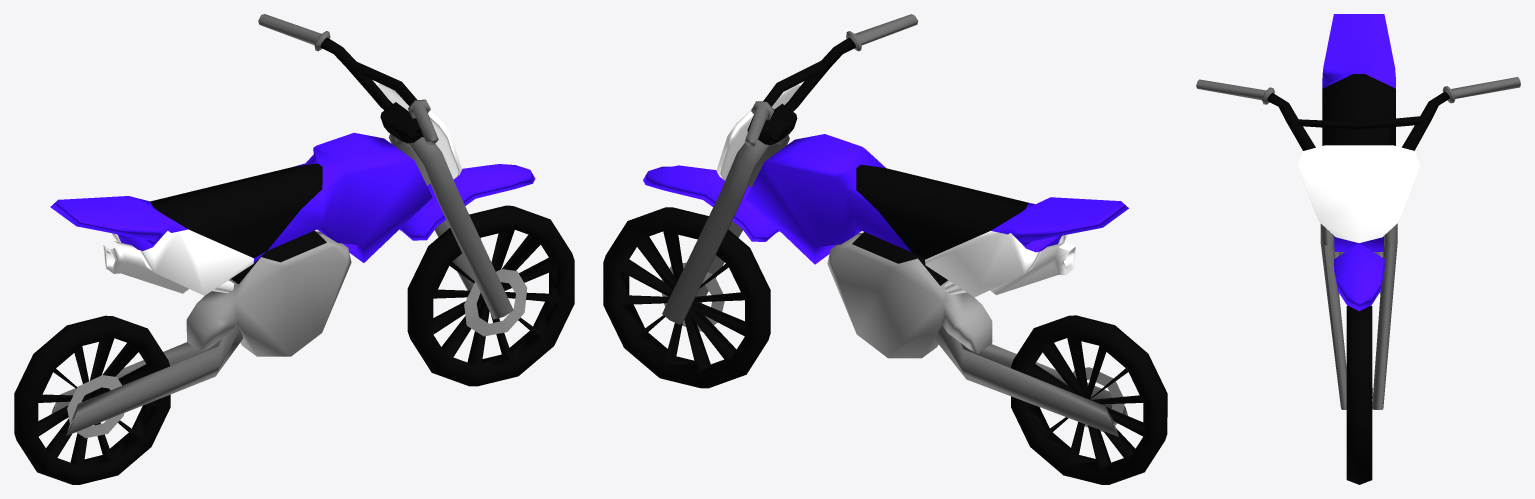
The model's file is DirtBike125ccBlue.glb.
3 renders of one model, left to right at view 1: azimuth 30°, elevation 25°; view 2: azimuth 150°, elevation 25°; view 3: azimuth 270°, elevation 25°, orthographic. The views are drawn at different scales.
Visible parts, largest first — view 1: DirtBike125ccBlue; view 2: DirtBike125ccBlue; view 3: DirtBike125ccBlue.
Part boxes in pixels (x1,y1,x2,y2): DirtBike125ccBlue: (14, 14, 574, 484); DirtBike125ccBlue: (603, 14, 1167, 484); DirtBike125ccBlue: (1196, 14, 1520, 484).
Bounding box in the file's own units: 1.92 × 1.13 × 1.01.
Materials: 1 (1 with a texture image).
